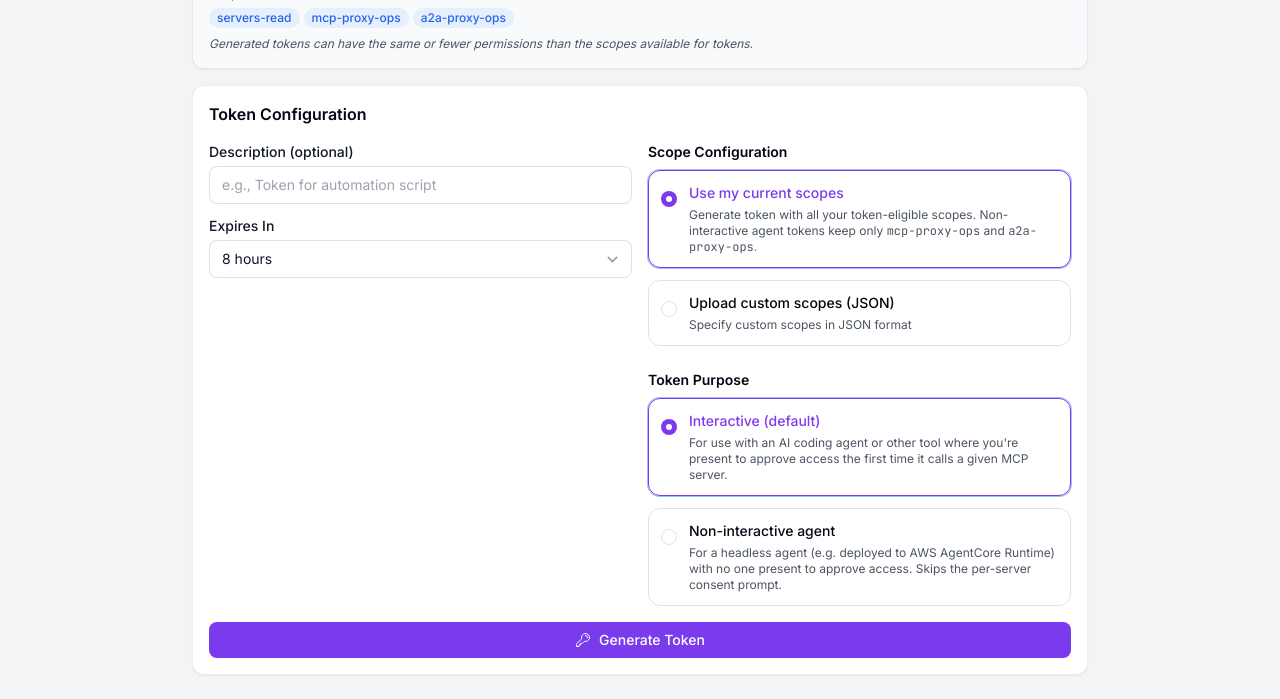
Test: TokenGeneration › a list detail falls back to the generic message
This screenshot has width=1280, height=699.
(page scrolled)
Click the button "Generate Token": (640, 640) [209, 622, 1071, 658]
(page scrolled)
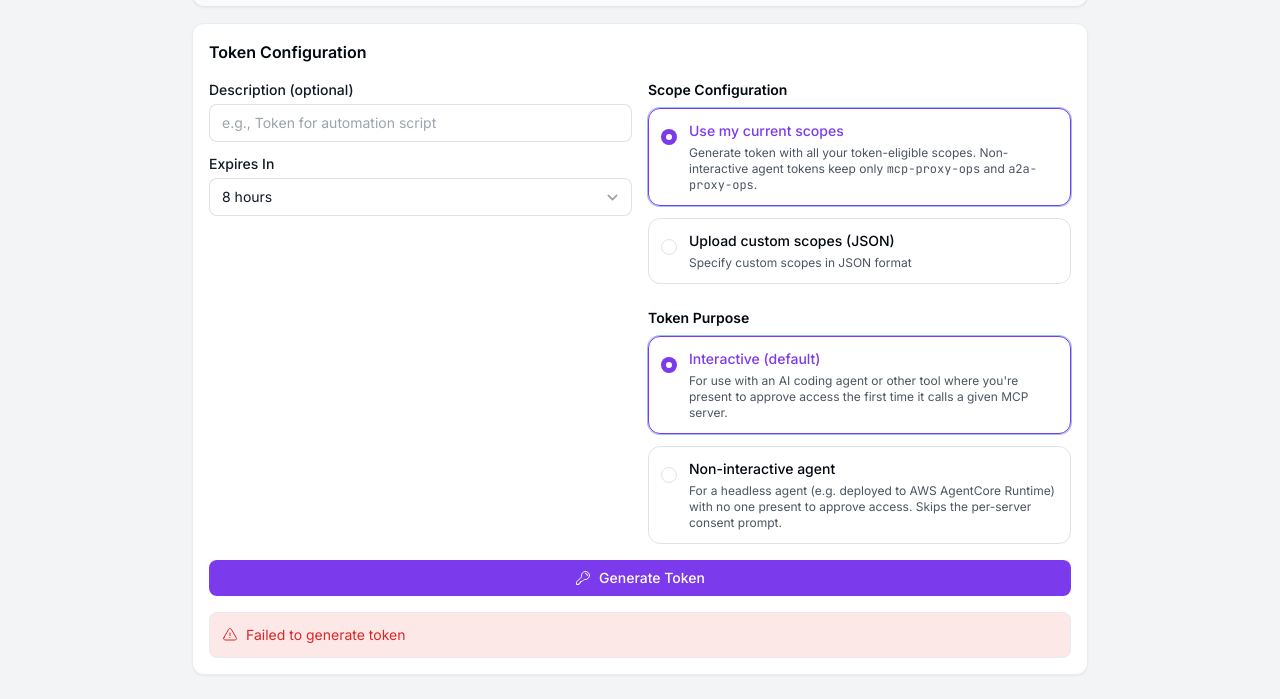
Check: the message reads "Failed to generate token", box [246, 626, 406, 643]
